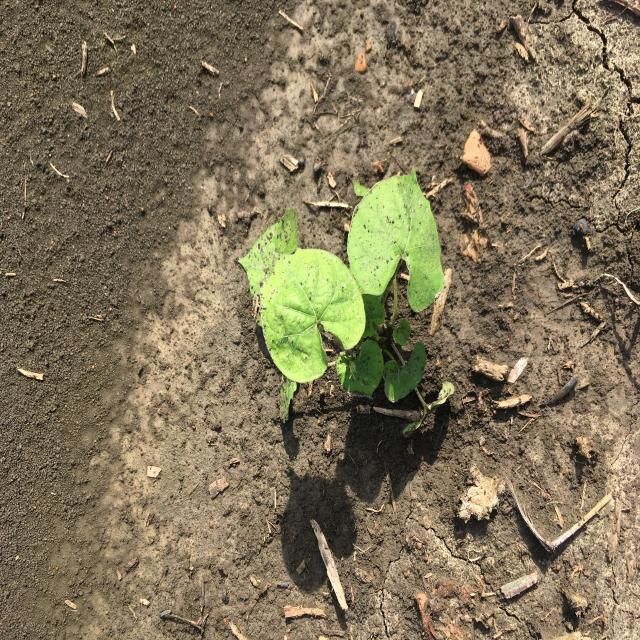MorningGlory: (235, 163, 457, 436)
